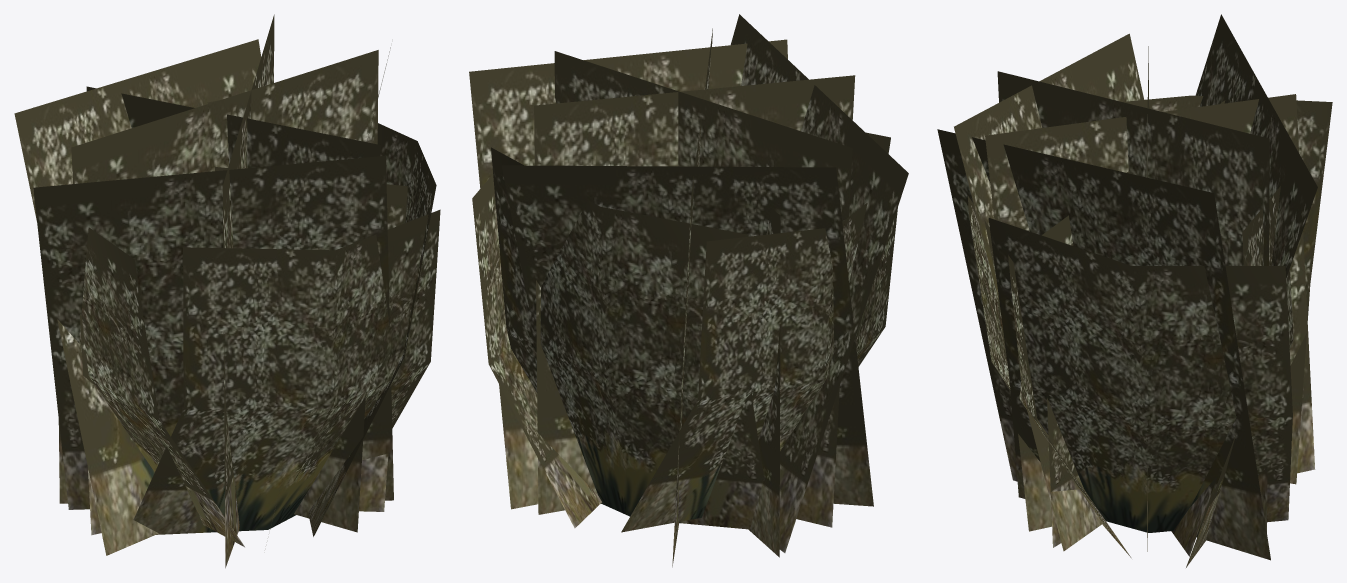
Rendered from pir_m_prp_vol_flower_yel_a.fbx.
The picture shows the model from 3 angles, left to right: view 1: azimuth 30°, elevation 25°; view 2: azimuth 150°, elevation 25°; view 3: azimuth 270°, elevation 25°; orthographic projection. The views are drawn at different scales.
Visible parts, largest first — view 1: flower_white6, flower_white9, flower_white10, flower_white, flower_white7, flower_white2, flower_white5, flower_white1, flower_white3; view 2: flower_white4, flower_white7, flower_white10, flower_white1, flower_white9, flower_white, flower_white8, flower_white5, flower_white3, flower_white2; view 3: flower_white5, flower_white8, flower_white1, flower_white2, flower_white9, flower_white10, flower_white7, flower_white6, flower_white4, flower_white3.
Boxes of the visible parts, left/top/right/bottom form: flower_white6: left=133, top=209, right=440, bottom=534; flower_white9: left=33, top=155, right=393, bottom=509; flower_white10: left=14, top=39, right=261, bottom=555; flower_white: left=71, top=50, right=378, bottom=535; flower_white7: left=79, top=227, right=244, bottom=547; flower_white2: left=86, top=86, right=380, bottom=532; flower_white5: left=308, top=123, right=436, bottom=536; flower_white1: left=222, top=14, right=274, bottom=568; flower_white3: left=58, top=167, right=407, bottom=511; flower_white4: left=491, top=147, right=764, bottom=529; flower_white7: left=621, top=203, right=897, bottom=532; flower_white10: left=501, top=165, right=873, bottom=506; flower_white1: left=534, top=75, right=855, bottom=514; flower_white9: left=730, top=14, right=908, bottom=552; flower_white: left=554, top=51, right=852, bottom=527; flower_white8: left=469, top=39, right=787, bottom=509; flower_white5: left=472, top=174, right=601, bottom=528; flower_white3: left=748, top=209, right=780, bottom=557; flower_white2: left=672, top=28, right=712, bottom=567; flower_white5: left=988, top=218, right=1292, bottom=532; flower_white8: left=937, top=129, right=1270, bottom=560; flower_white1: left=997, top=71, right=1269, bottom=532; flower_white2: left=985, top=94, right=1315, bottom=531; flower_white9: left=954, top=33, right=1144, bottom=551; flower_white10: left=1171, top=14, right=1317, bottom=556; flower_white7: left=1123, top=95, right=1332, bottom=484; flower_white6: left=967, top=195, right=1131, bottom=558; flower_white4: left=1186, top=186, right=1293, bottom=567; flower_white3: left=1042, top=100, right=1225, bottom=547.
Bounding box in the file's own units: 706 × 703 × 604.
Materials: 1 (1 with a texture image).
